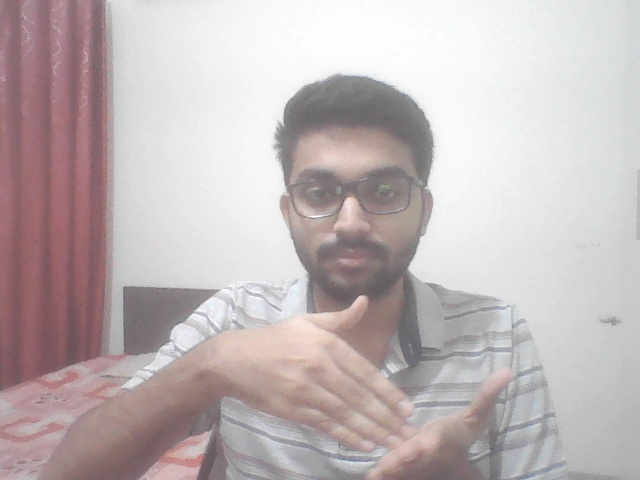again: (172, 285, 523, 475)
